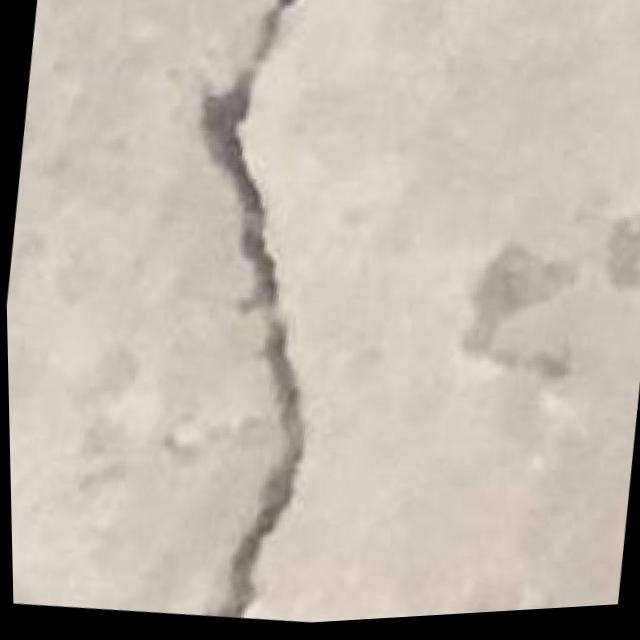Crack: (124, 0, 381, 633)
